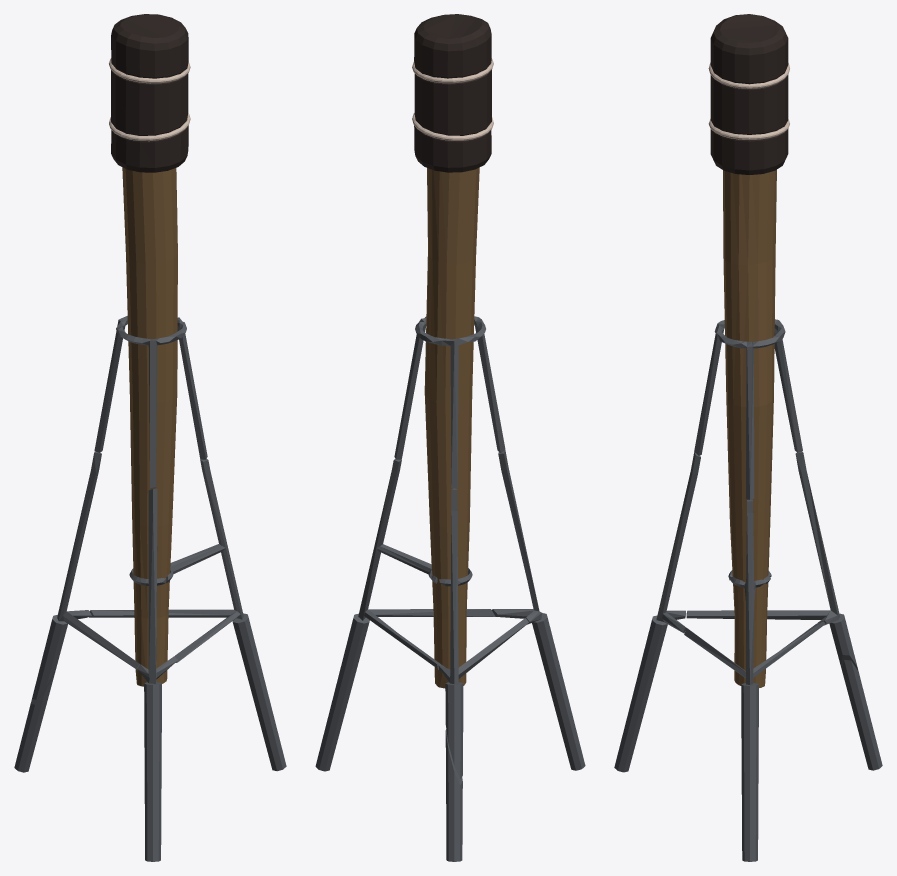
Rendered from Torch crashed.fbx.
3 renders of one model, left to right at view 1: azimuth 30°, elevation 25°; view 2: azimuth 150°, elevation 25°; view 3: azimuth 270°, elevation 25°, orthographic.
Visible parts, largest first — view 1: Torch, Torch rack_cell.002, Torch rack_cell.004, Torch rack_cell.003, Torch rack_cell.001, Torch rack_cell.005; view 2: Torch, Torch rack_cell.002, Torch rack_cell.004, Torch rack_cell.003, Torch rack_cell.001, Torch rack_cell.005; view 3: Torch, Torch rack_cell.002, Torch rack_cell.004, Torch rack_cell.003, Torch rack_cell.001, Torch rack_cell.005.
Part boxes in pixels (x1=…): Torch: x1=109, y1=14, x2=190, y2=686; Torch rack_cell.002: x1=89, y1=459, x2=286, y2=771; Torch rack_cell.004: x1=137, y1=488, x2=178, y2=861; Torch rack_cell.003: x1=94, y1=316, x2=207, y2=488; Torch rack_cell.001: x1=32, y1=451, x2=139, y2=699; Torch rack_cell.005: x1=14, y1=668, x2=56, y2=772; Torch: x1=412, y1=14, x2=493, y2=688; Torch rack_cell.002: x1=315, y1=459, x2=495, y2=771; Torch rack_cell.004: x1=492, y1=450, x2=585, y2=770; Torch rack_cell.003: x1=394, y1=316, x2=505, y2=488; Torch rack_cell.001: x1=438, y1=488, x2=528, y2=778; Torch rack_cell.005: x1=445, y1=729, x2=462, y2=861; Torch: x1=708, y1=14, x2=789, y2=687; Torch rack_cell.002: x1=684, y1=499, x2=825, y2=861; Torch rack_cell.004: x1=614, y1=452, x2=700, y2=772; Torch rack_cell.003: x1=694, y1=319, x2=802, y2=499; Torch rack_cell.001: x1=686, y1=451, x2=858, y2=671; Torch rack_cell.005: x1=842, y1=660, x2=882, y2=770.
Size of the model in its own units: 0.274 by 0.9799 by 0.3084.
